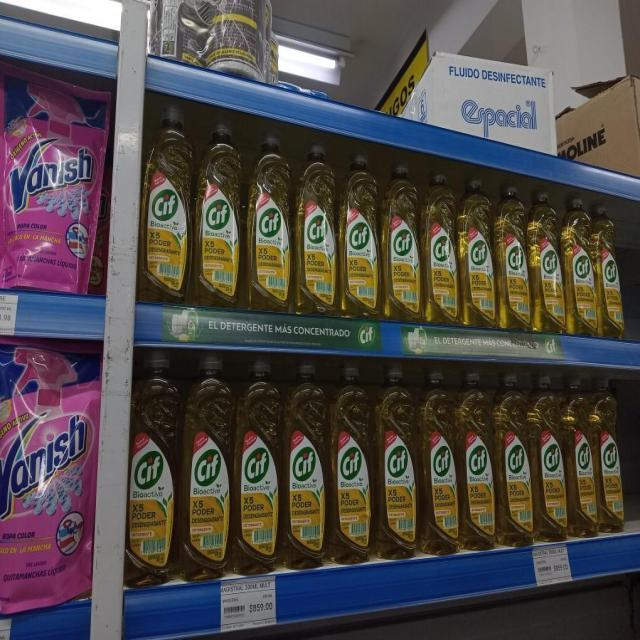cif_conc_bot_amarilla: (128, 348, 178, 586), (181, 348, 232, 580), (234, 354, 281, 573), (142, 100, 191, 304), (194, 116, 243, 306), (283, 358, 326, 570), (329, 359, 371, 565), (374, 361, 416, 560), (247, 129, 291, 311), (295, 141, 337, 315), (419, 363, 456, 557), (457, 368, 494, 552), (340, 149, 380, 316), (495, 368, 531, 548), (382, 160, 420, 321), (422, 169, 458, 325), (532, 369, 564, 542), (459, 174, 494, 328), (496, 182, 529, 332), (529, 189, 563, 334), (566, 374, 596, 538), (596, 376, 624, 535), (564, 195, 595, 336), (596, 202, 624, 339)
